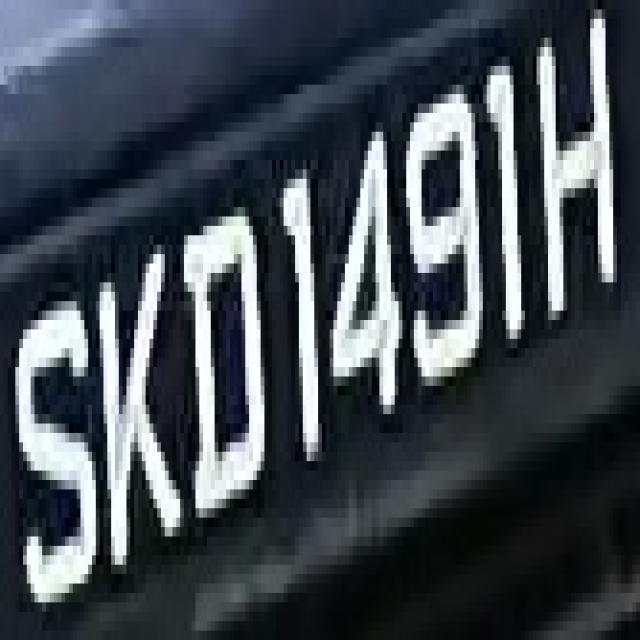1: (284, 104, 334, 508), (479, 47, 525, 386)
4: (326, 113, 414, 471)
9: (384, 75, 494, 405)
D: (184, 198, 272, 527)
H: (532, 9, 624, 339)
K: (92, 235, 184, 574)
S: (11, 264, 100, 630)
